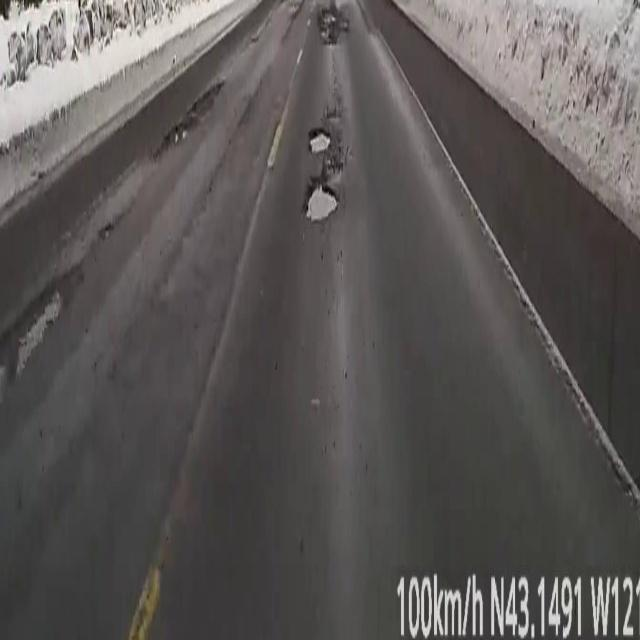pothole: (0, 277, 85, 384), (151, 80, 222, 162), (318, 5, 349, 44), (306, 190, 337, 222), (309, 130, 330, 154)
